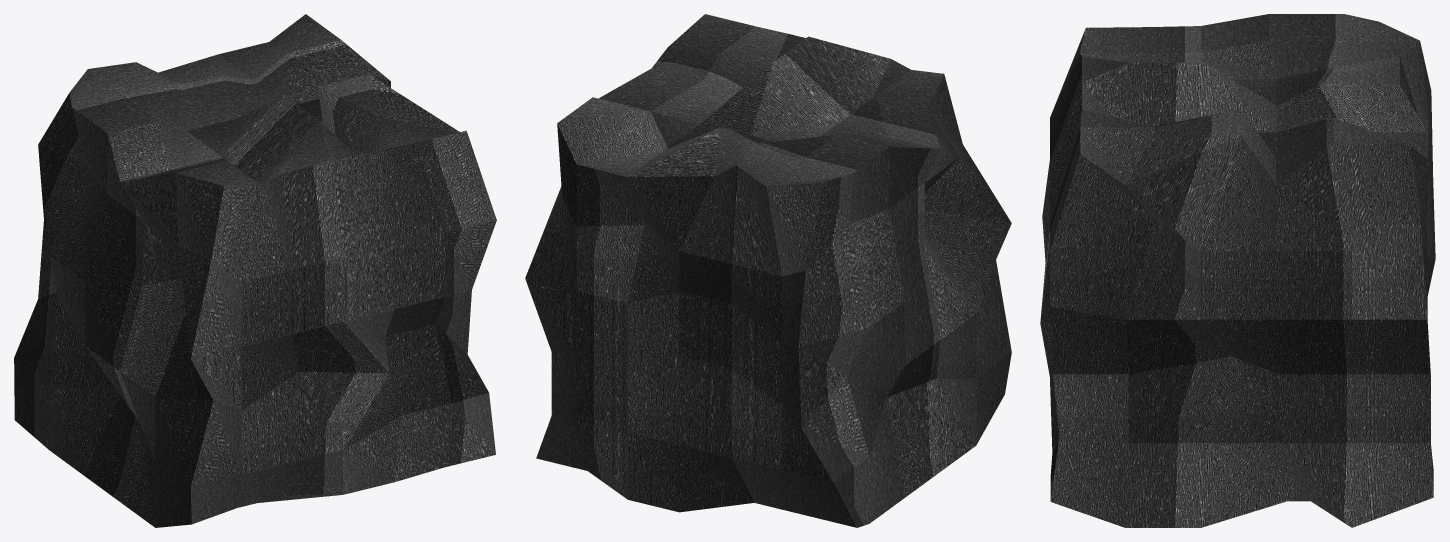
The model's file is Musor.fbx.
The picture shows the model from 3 angles, left to right: view 1: azimuth 30°, elevation 25°; view 2: azimuth 150°, elevation 25°; view 3: azimuth 270°, elevation 25°; orthographic projection. The views are drawn at different scales.
Parts seen in each view (by area): view 1: Musor; view 2: Musor; view 3: Musor.
Part boxes in pixels (x1=…): Musor: x1=14, y1=14, x2=496, y2=527; Musor: x1=525, y1=14, x2=1011, y2=527; Musor: x1=1040, y1=14, x2=1435, y2=527.
Bounding box in the file's own units: 207 × 229 × 209.
